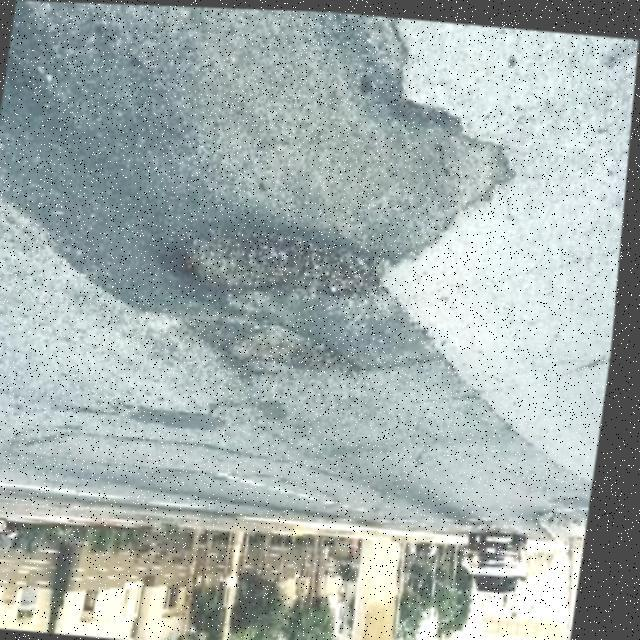pothole: (170, 216, 392, 309), (222, 317, 370, 376)
